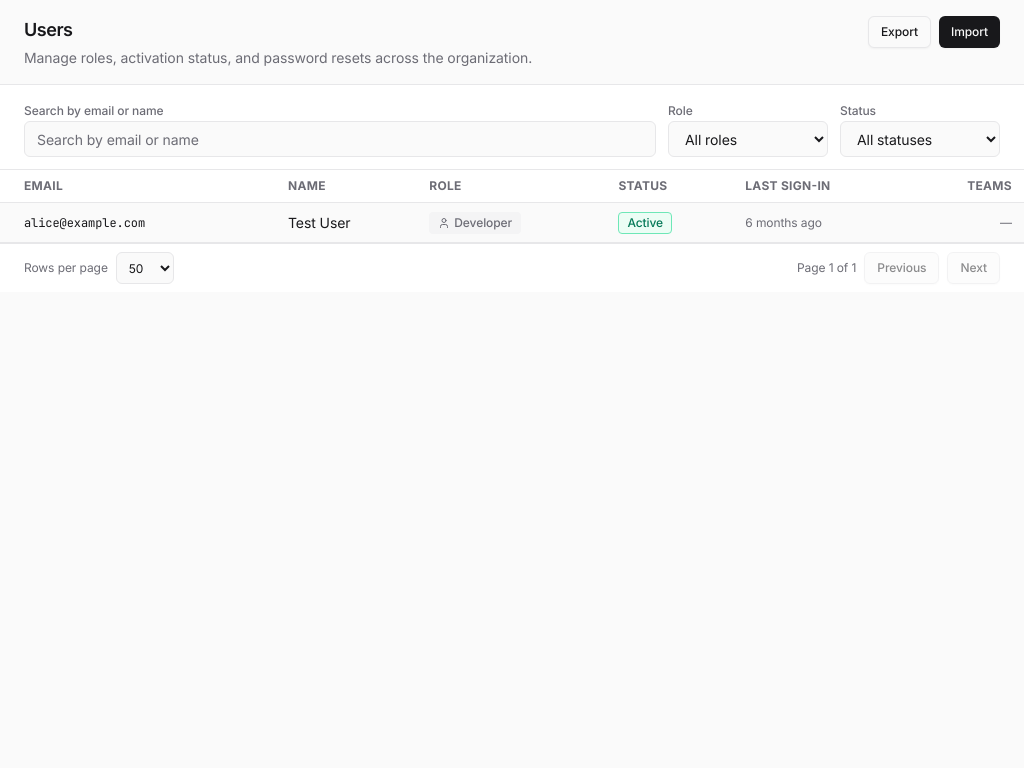
it: AdminUsersPage › opens the user drawer on row click and fetches detail
The width and height of the screenshot is (1024, 768).
Click the row with test id "admin-users-row": (512, 222) [0,202,1023,242]
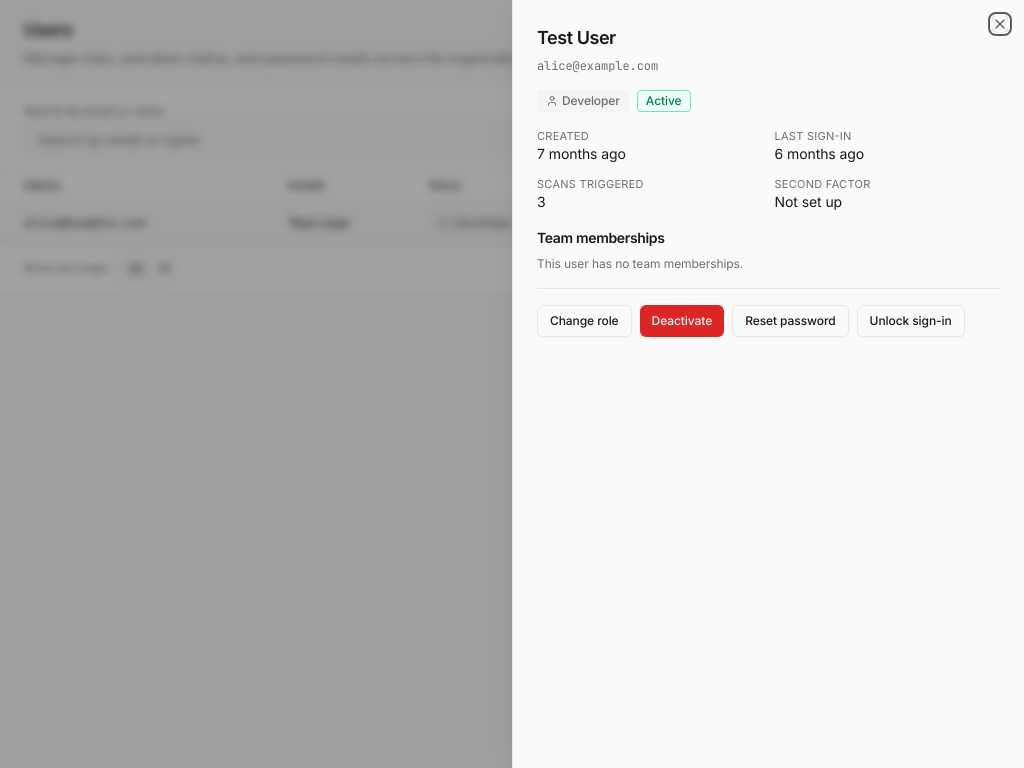
Check: the dialog with test id "admin-user-drawer" is shown, box [512,0,1023,767]
